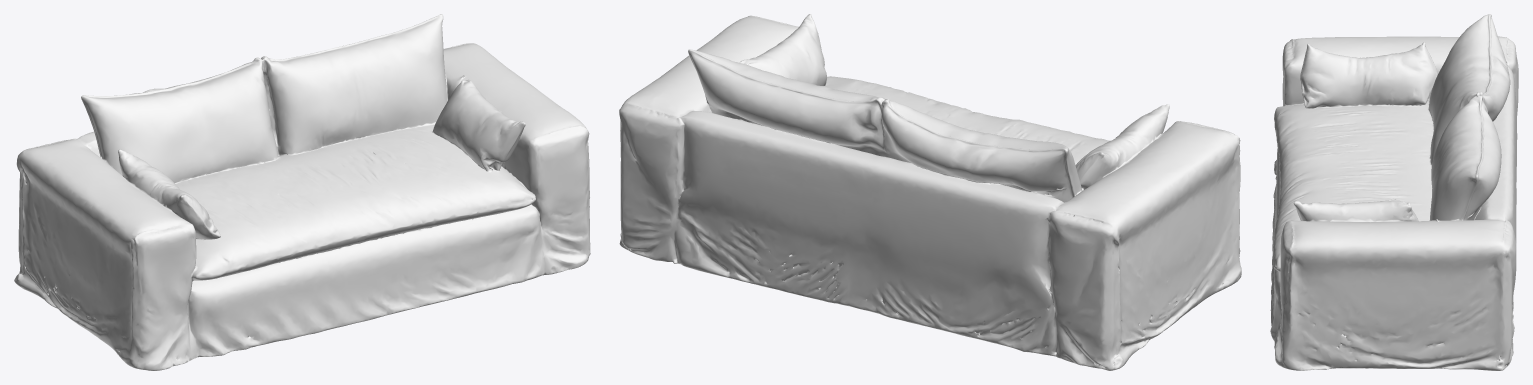
File: y1aRZRIYb3xcXkWyHKoLU.glb
3 views of the same model, side by side, from view 1: azimuth 30°, elevation 25°; view 2: azimuth 150°, elevation 25°; view 3: azimuth 270°, elevation 25° (orthographic). The views are drawn at different scales.
Visible parts, largest first — view 1: world; view 2: world; view 3: world.
Boxes of the visible parts, <box> form: world: <box>14,14,590,370</box>; world: <box>619,14,1241,370</box>; world: <box>1270,14,1518,370</box>.
Size of the model in its own units: 0.9973 by 0.3776 by 0.4906.
Materials: 1 (1 with a texture image).
